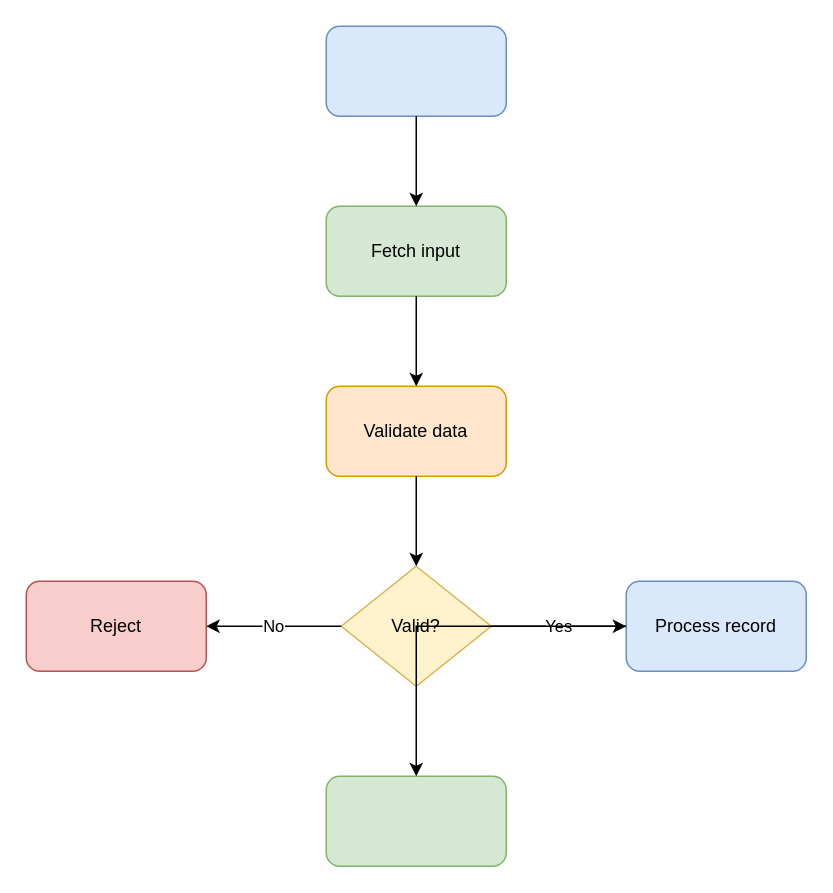
Image size: 833x893. Some labels were removed from this diagram. The shapes that lost their labels are listed below. From the top down, each one's centre as x and y in pixels, then its label:
(415,70): Start
(415,820): End
